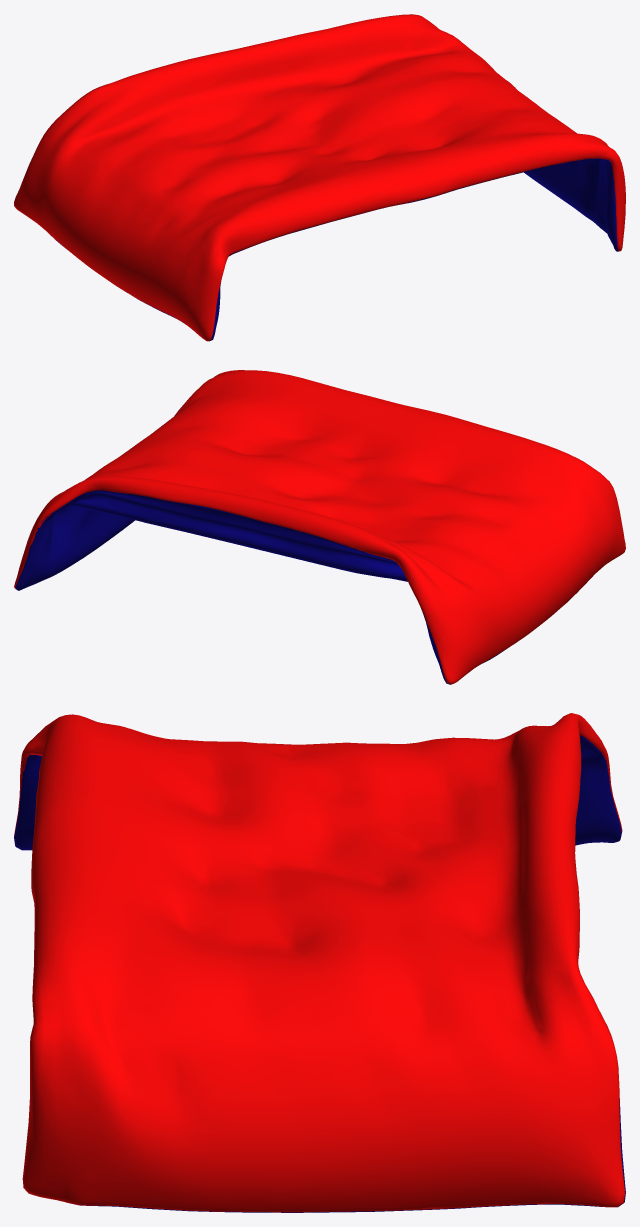
File: bedsheets.FBX
3 renders of one model, top to bottom at view 1: azimuth 30°, elevation 25°; view 2: azimuth 150°, elevation 25°; view 3: azimuth 270°, elevation 25°, orthographic. The views are drawn at different scales.
Visible parts, largest first — view 1: Plane008; view 2: Plane008; view 3: Plane008.
Part boxes in pixels (x1,y1,x2,y2): Plane008: [14, 14, 625, 341]; Plane008: [14, 370, 625, 684]; Plane008: [14, 713, 625, 1212].
Bounding box in the file's own units: 96.12 × 27.63 × 68.97.
